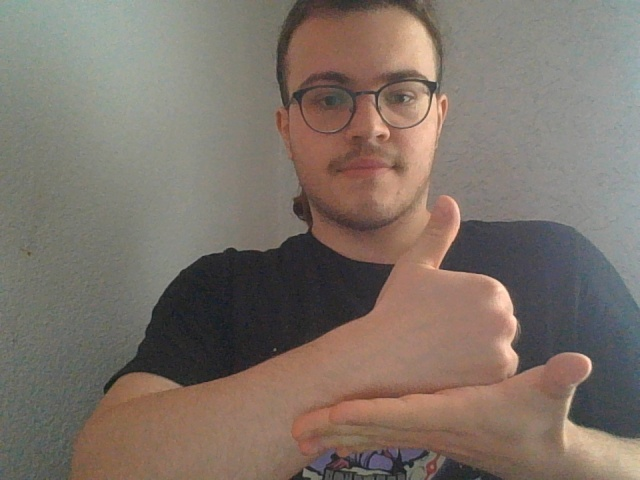Help: (289, 194, 594, 475)
